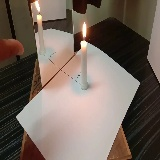fire: (82, 22, 86, 41)
